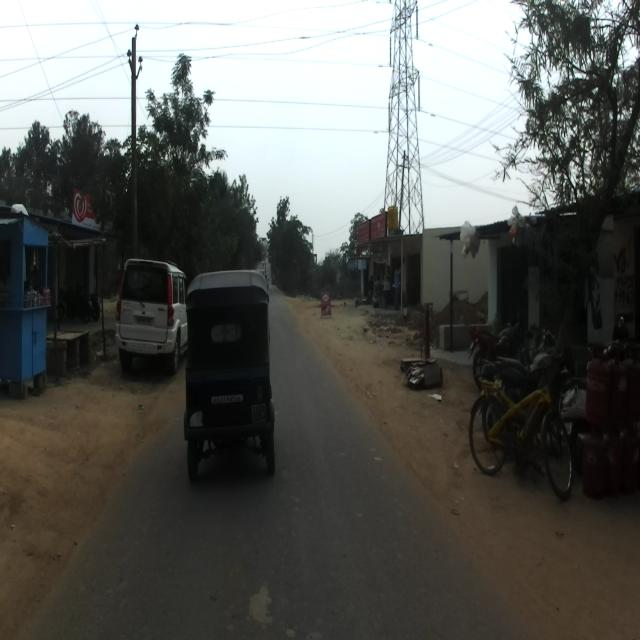auto ahead at: (187, 277, 279, 482)
bicycle ahead at: (458, 348, 582, 497)
car ahead at: (116, 252, 186, 380)
